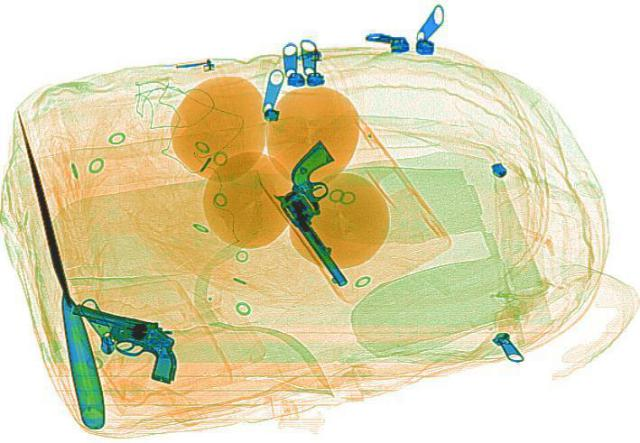Gun: (245, 139, 408, 286), (45, 300, 202, 383)
Knife: (8, 104, 108, 427)
